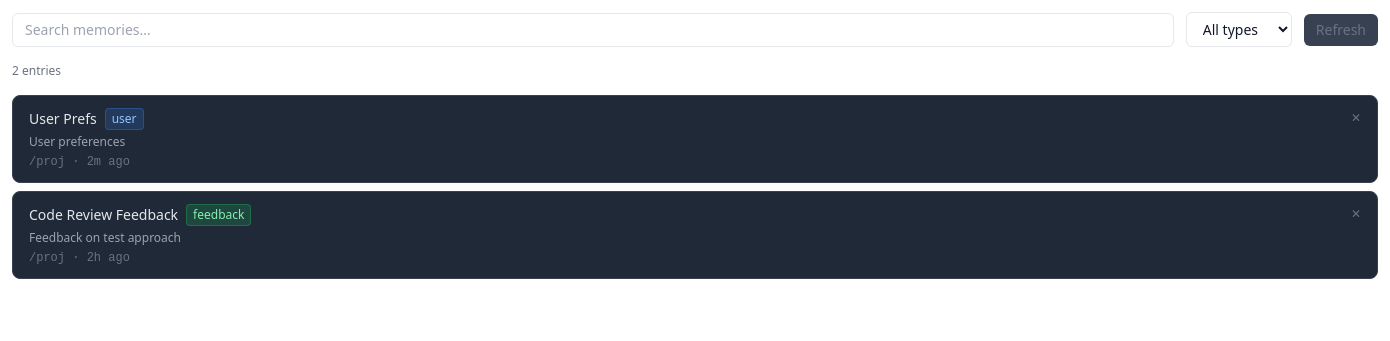
MemoryViewer › collapses entry on second click
This screenshot has width=1390, height=341.
What coordinates should you click on to do the following:
click the text "User Prefs"
I would click on:
 (63, 119)
Its box is [29,109,97,129].
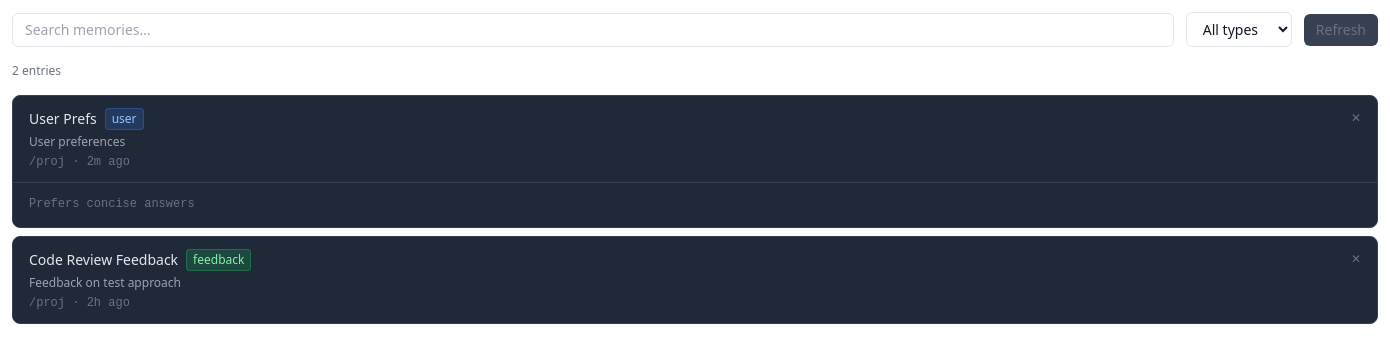
Now the text "Prefers concise answers" is shown, box [29,197,195,211]
What coordinates should you click on to do the following:
click the text "User Prefs"
I would click on:
 (63, 119)
Its box is [29,109,97,129].
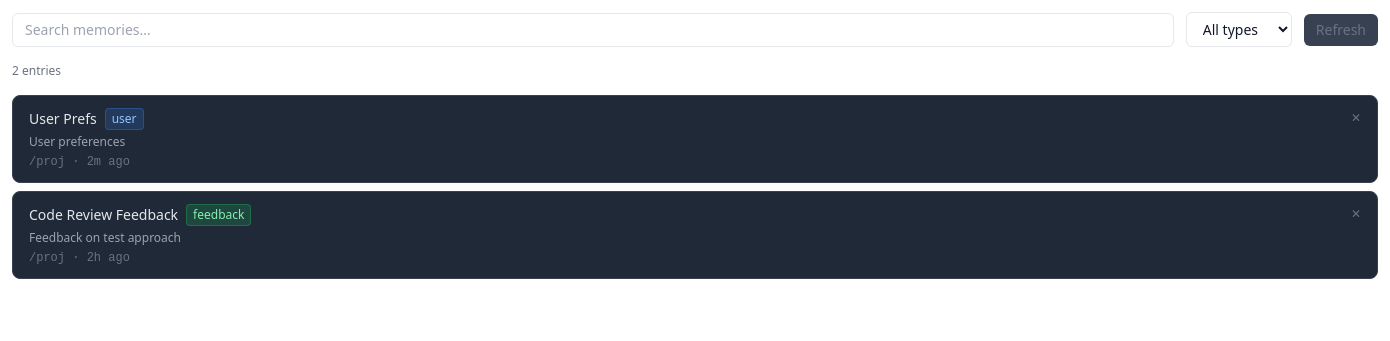
Now the text "Prefers concise answers" is gone
